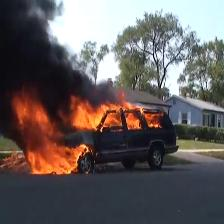fire: (16, 104, 52, 174), (74, 104, 160, 129), (54, 146, 81, 170)
smoke: (2, 5, 56, 97)
